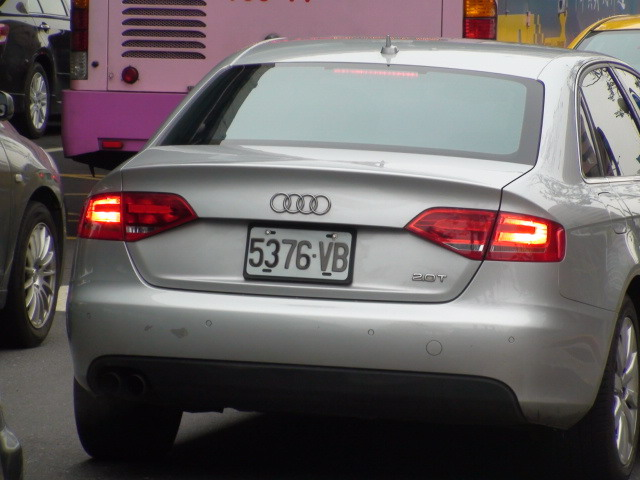plate: (240, 221, 356, 283)
